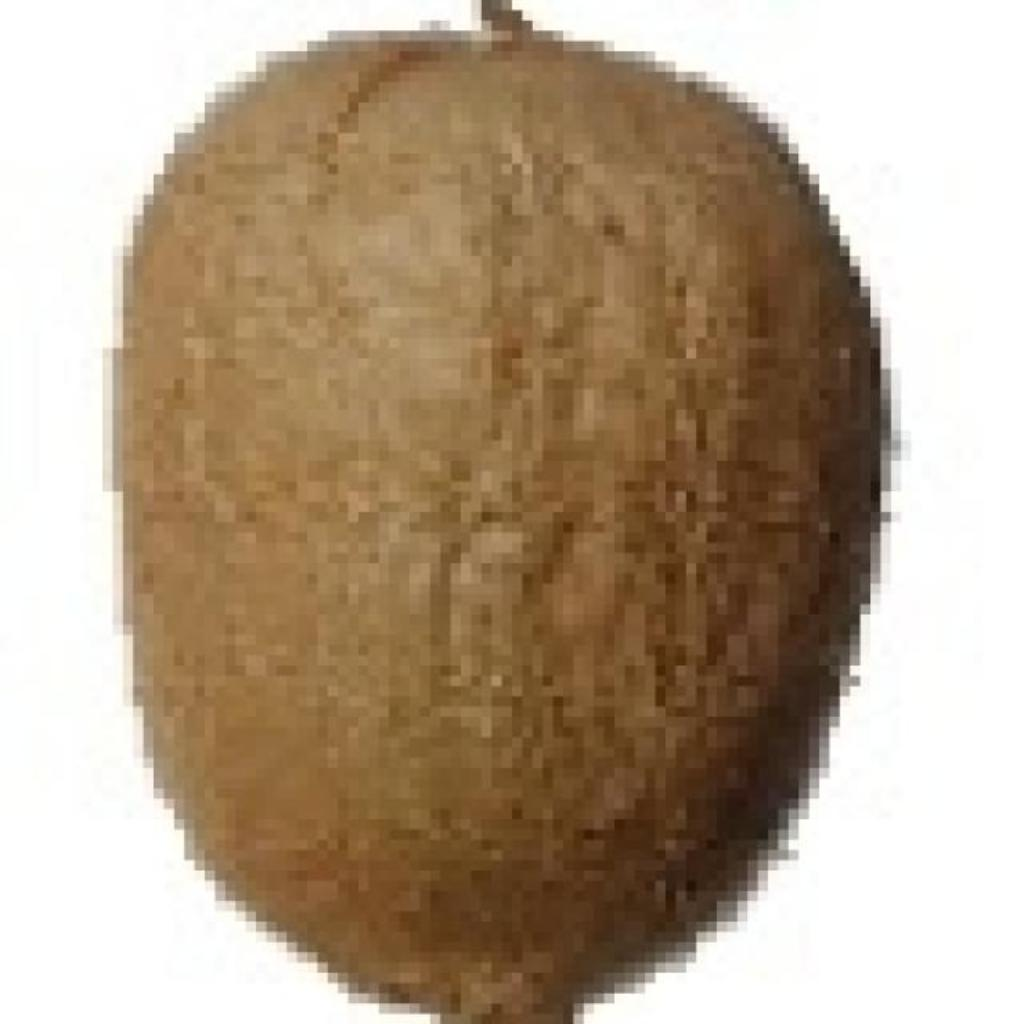kiwi: (113, 0, 860, 1004)
